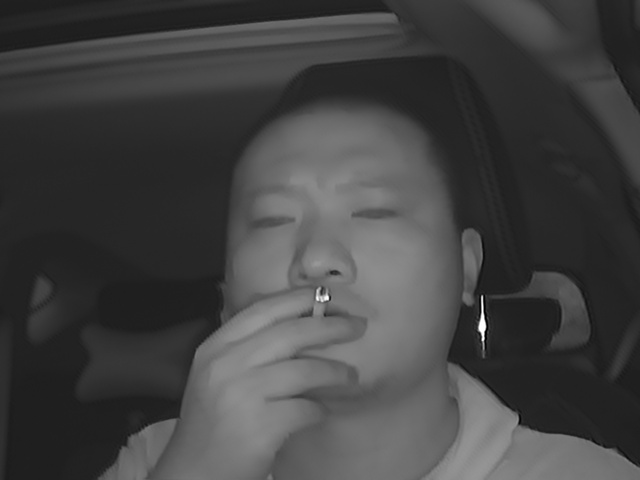hand: (212, 284, 366, 437)
